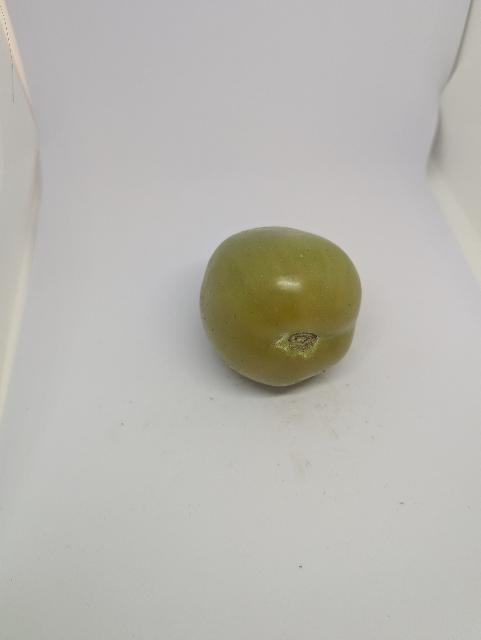breaker: (192, 221, 370, 397)
